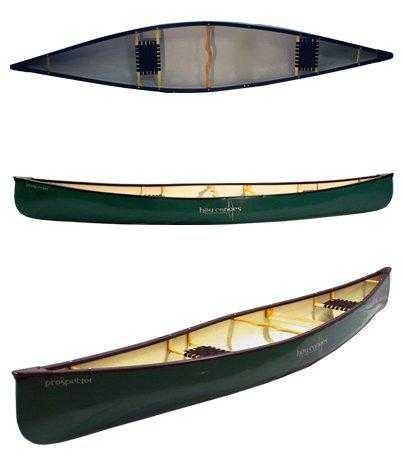kayak: (7, 19, 392, 225), (13, 266, 391, 448), (7, 174, 392, 225)
